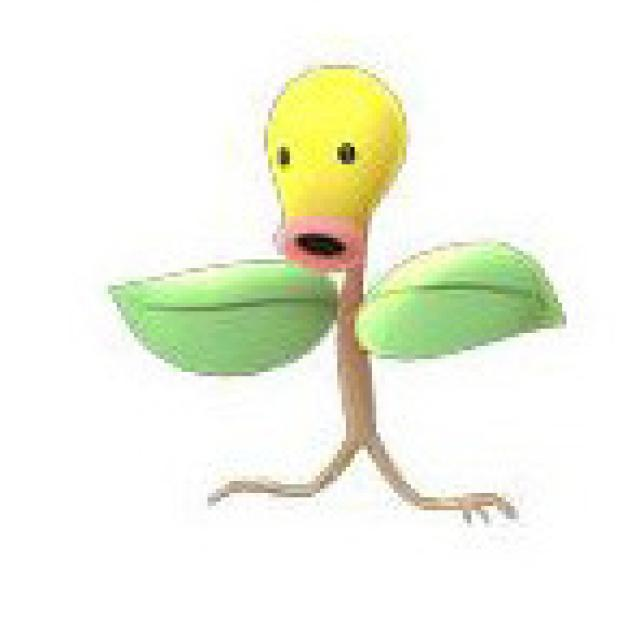Bellsprout: (228, 54, 430, 503)
